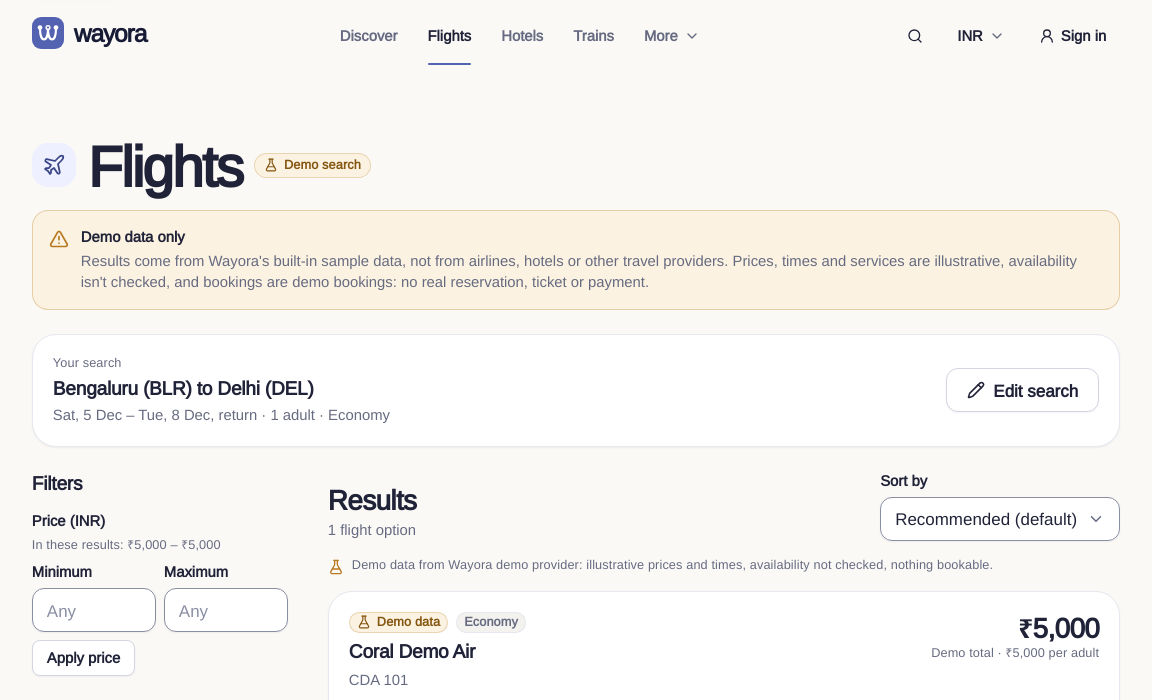
Test: flight trip type › opens a return-trip link as a round trip in the edit form
Click the button "Edit search" at (1023, 390), box [946, 368, 1099, 412]
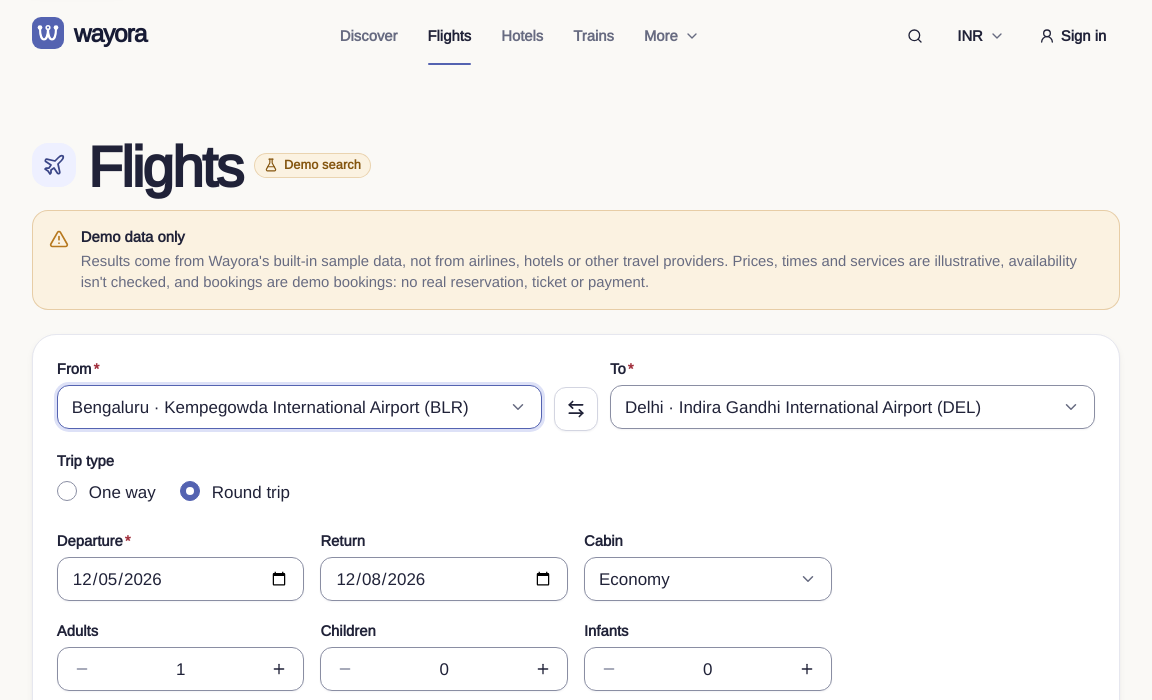
expect the radio button labelled "Round trip" is checked: met, box [180, 481, 200, 501]
